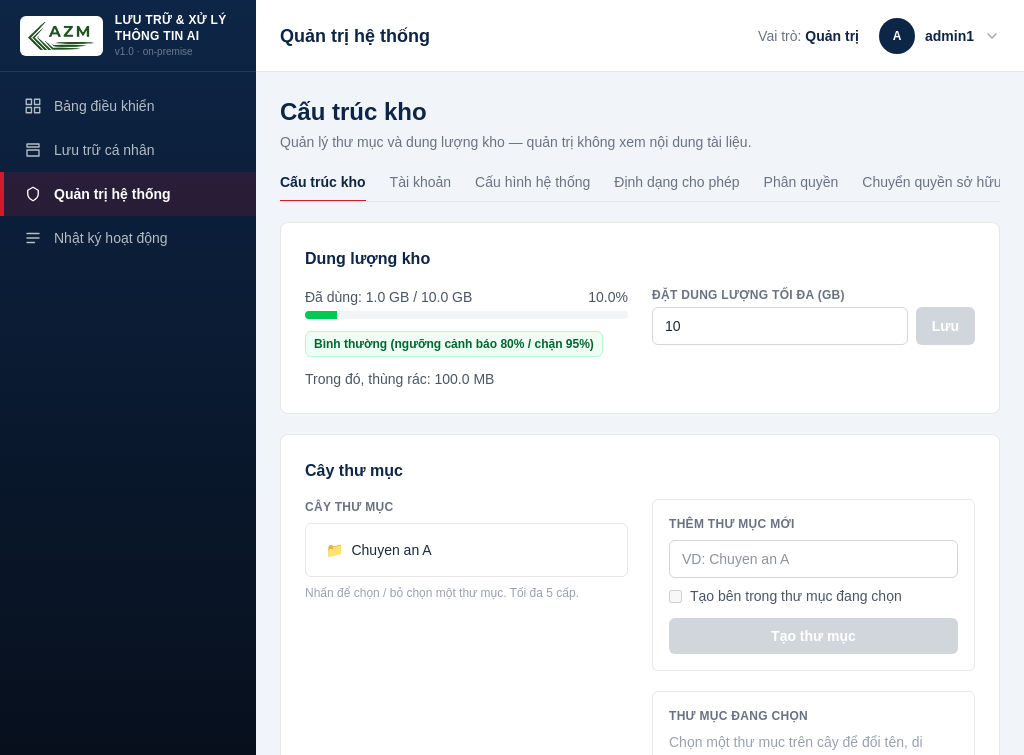
FolderAdminPage › deletes the selected folder
Click the button "📁 Chuyen an A" at (392, 550), box [318,536,615,564]
(page scrolled)
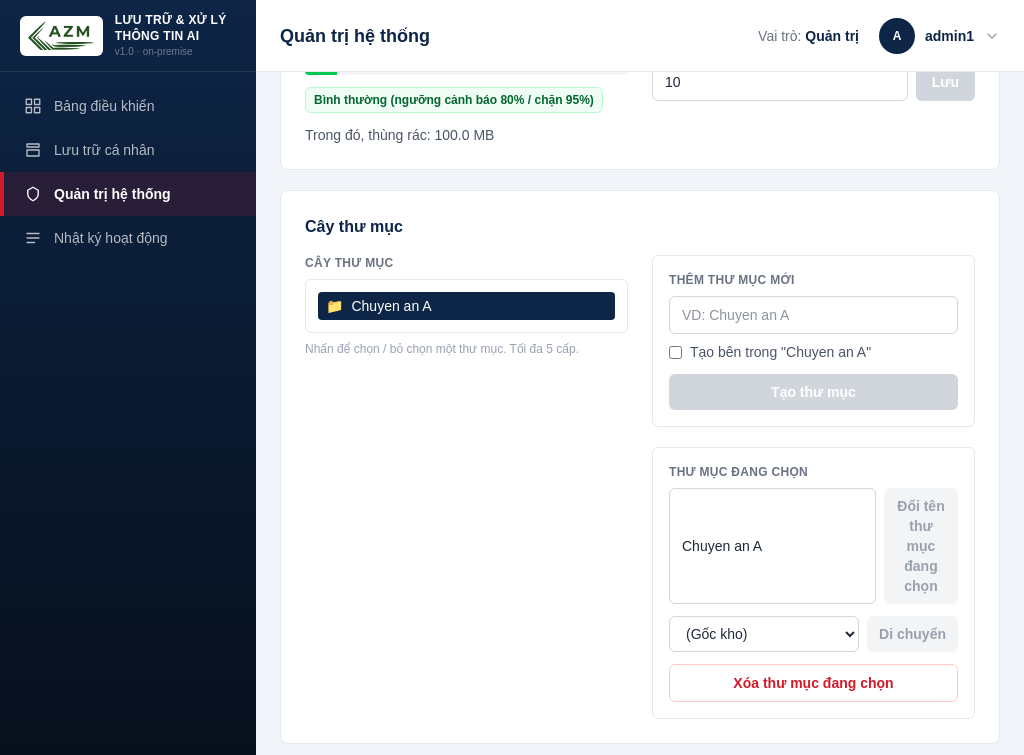
Click the button "Xóa thư mục đang chọn" at (814, 683), box [669,664,958,702]
(page scrolled)
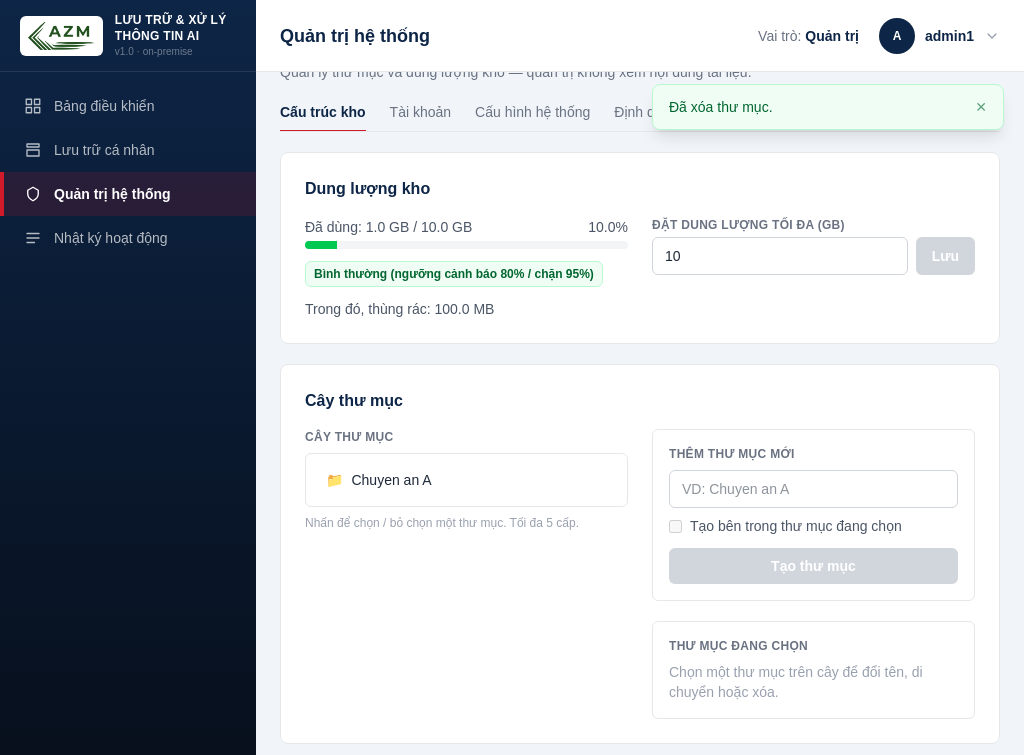
expect the text "Đã xóa thư mục." is shown: met, box [669,99,772,115]
